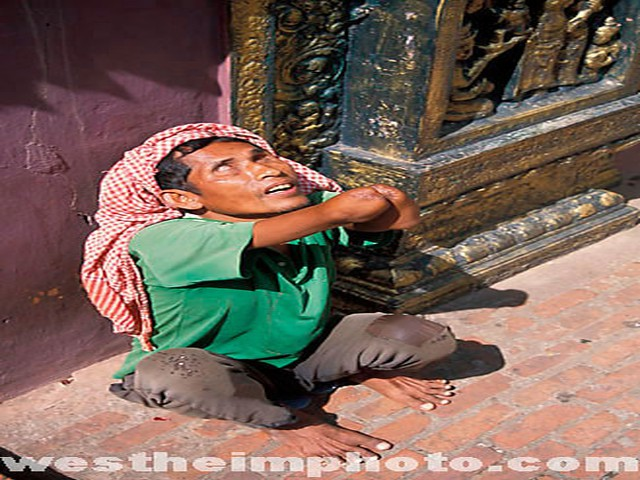Person: (85, 119, 476, 450)
